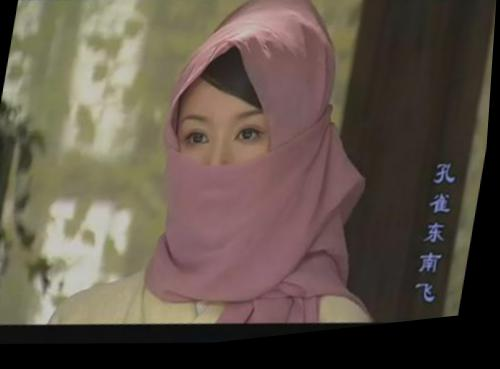WRONG: (156, 97, 304, 251)
